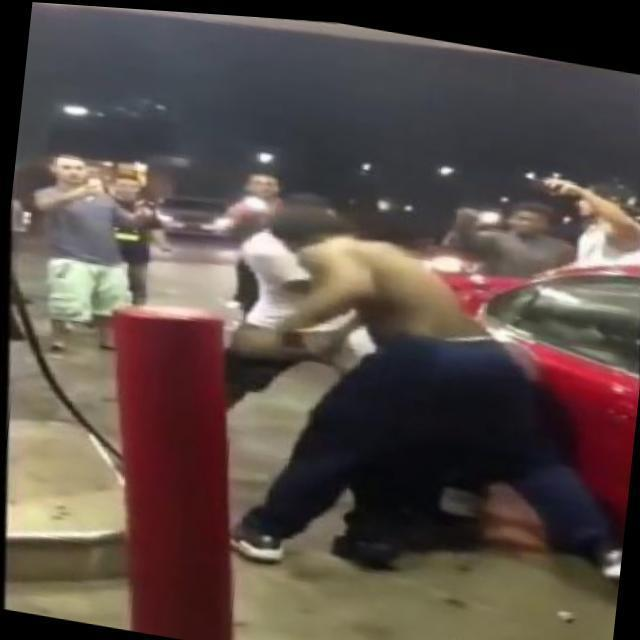fight: (197, 145, 640, 620)
